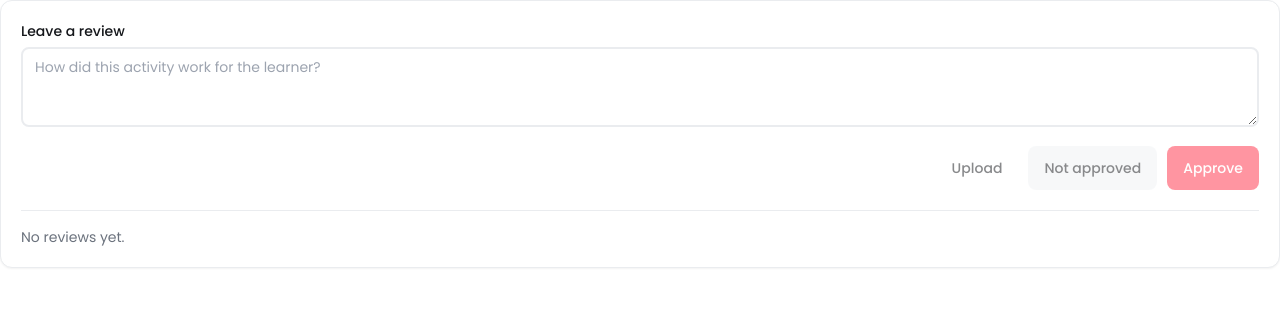
Test case: UT-4.10 displays a successfully submitted review beside the activity
The width and height of the screenshot is (1280, 331).
Type "Useful activity." into the text box labelled "Leave a review" at (640, 87), box top-left (21, 47), bottom-right (1259, 127)
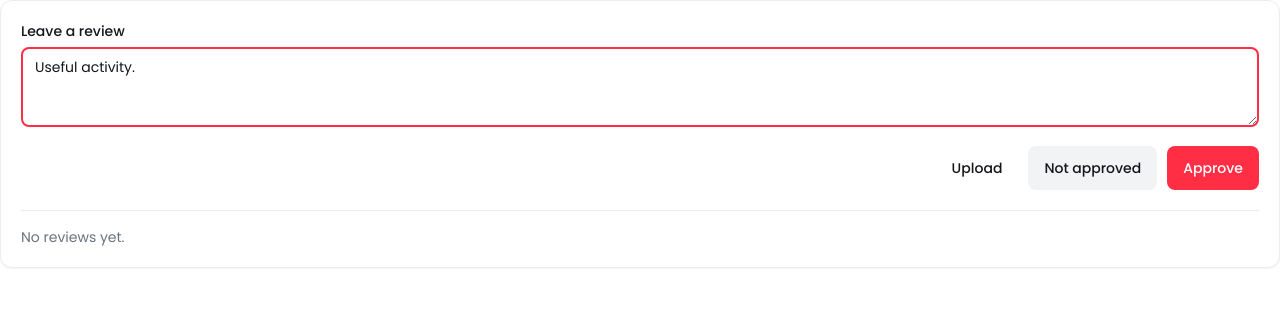
Click the button "Upload" at (977, 168), box top-left (936, 146), bottom-right (1018, 190)
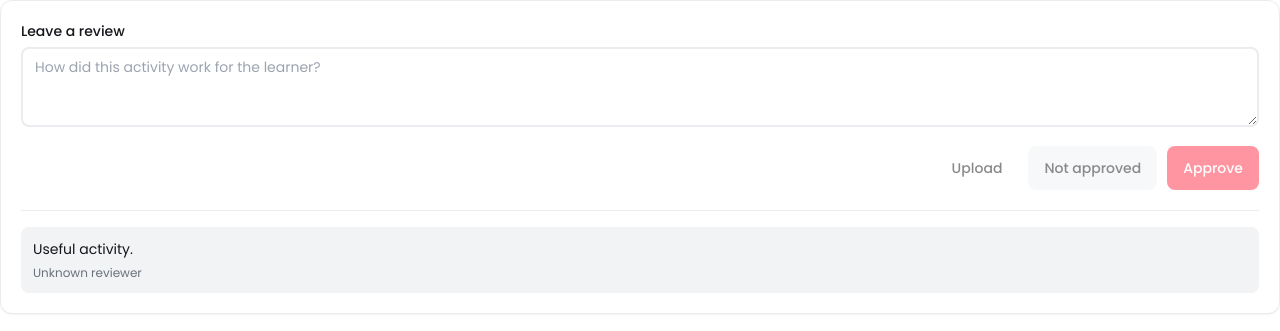
Result: the text "Useful activity." is shown at top-left (33, 239), bottom-right (133, 259)
Result: the text box labelled "Leave a review" is empty at top-left (21, 47), bottom-right (1259, 127)
